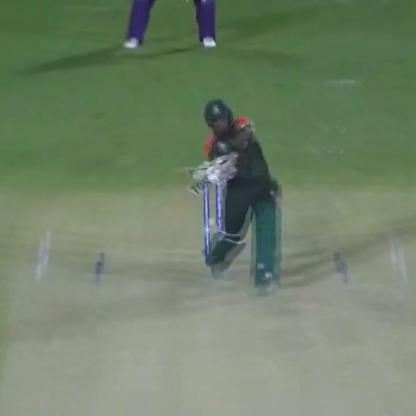ball: (205, 216, 219, 233)
bat: (157, 162, 236, 203)
pitch: (1, 220, 416, 416)
